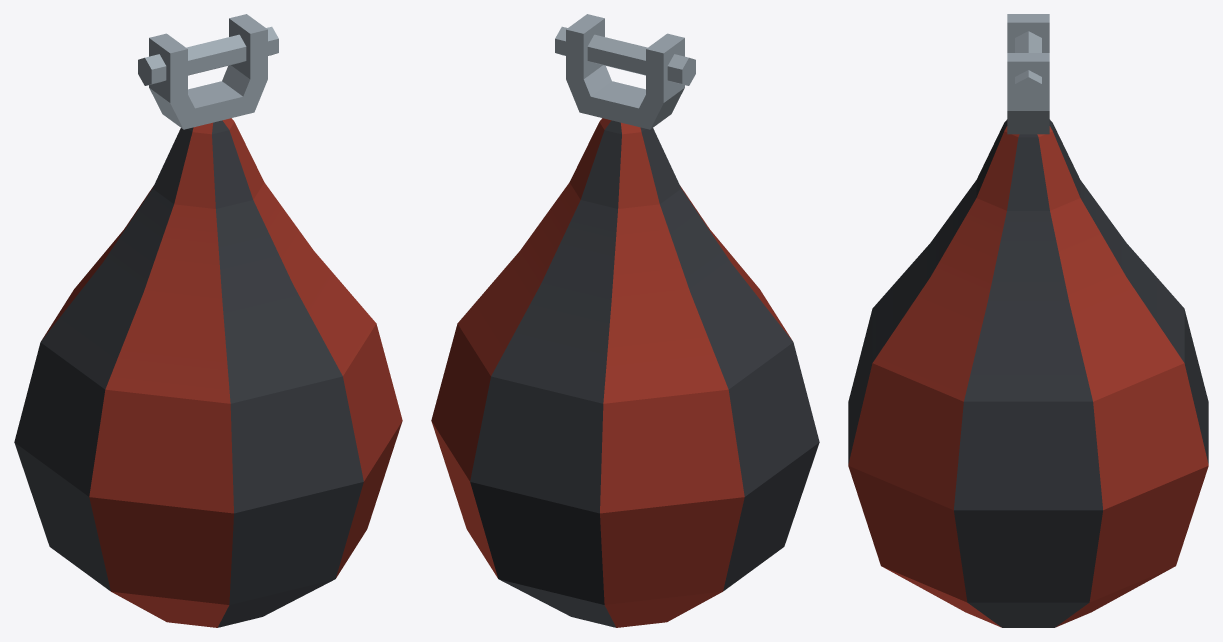
File: SM_Prop_Gym_Speed_Ball_01_Bag_01.obj
The picture shows the model from 3 angles, left to right: view 1: azimuth 30°, elevation 25°; view 2: azimuth 150°, elevation 25°; view 3: azimuth 270°, elevation 25°; orthographic projection.
Parts seen in each view (by area): view 1: SM_Prop_Gym_Speed_Ball_01_Bag_01_0; view 2: SM_Prop_Gym_Speed_Ball_01_Bag_01_0; view 3: SM_Prop_Gym_Speed_Ball_01_Bag_01_0.
Boxes of the visible parts, box(x1,y1,x2,y2) form: SM_Prop_Gym_Speed_Ball_01_Bag_01_0: box(14, 14, 402, 627); SM_Prop_Gym_Speed_Ball_01_Bag_01_0: box(431, 14, 819, 627); SM_Prop_Gym_Speed_Ball_01_Bag_01_0: box(848, 14, 1208, 627).
Size of the model in its own units: 0.2648 by 0.4666 by 0.2648.
Materials: 1 (1 with a texture image).
